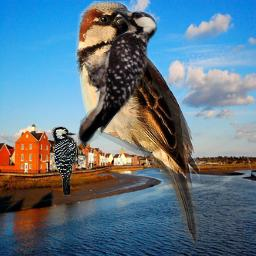Swallow: (74, 1, 200, 243)
Woodpecker: (74, 6, 167, 154), (51, 125, 88, 196)
